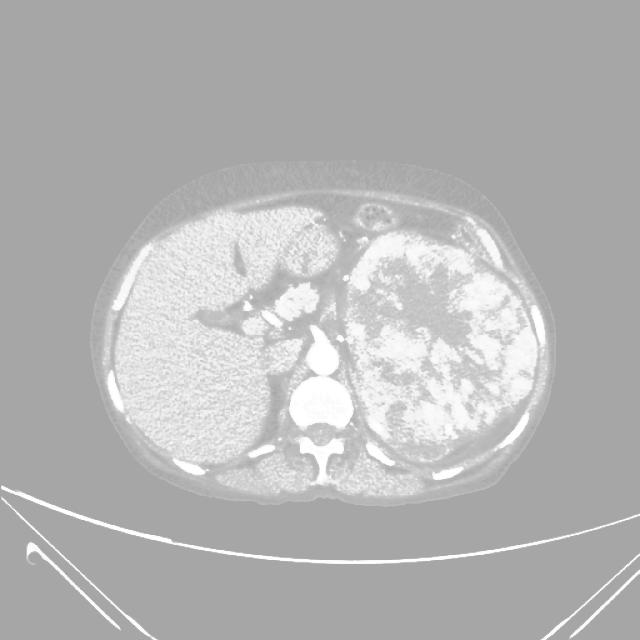TUMOR: (347, 213, 545, 419)
